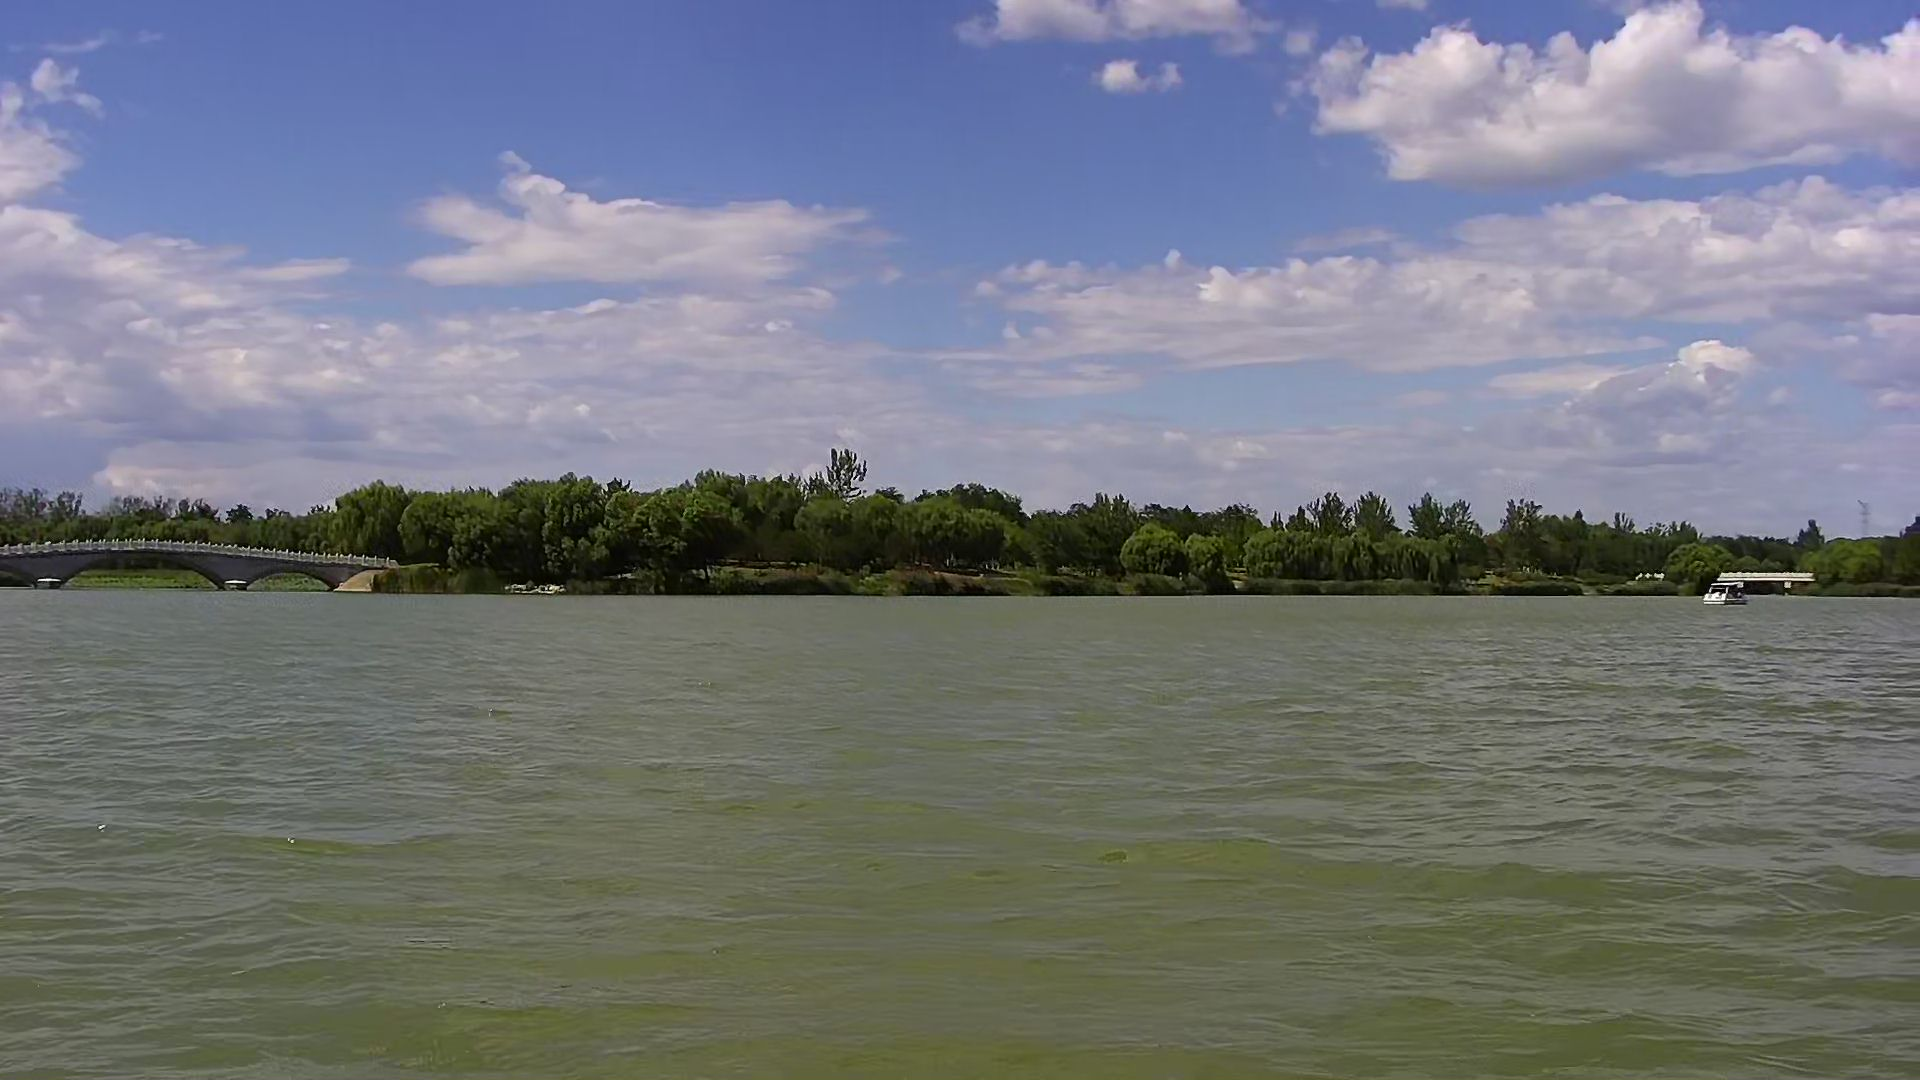boat: (1696, 568, 1764, 612)
bridge: (1, 527, 419, 597)
